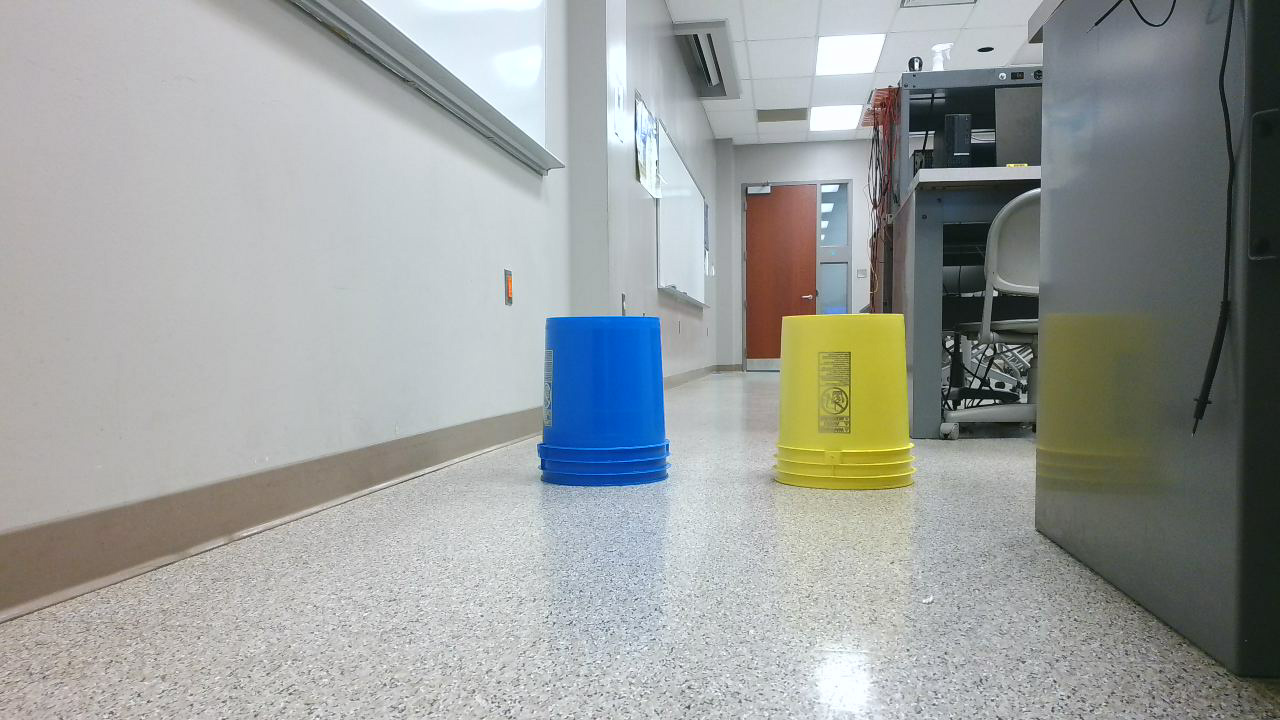blue_bucket: (536, 315, 683, 497)
yellow_bucket: (773, 314, 929, 503)
